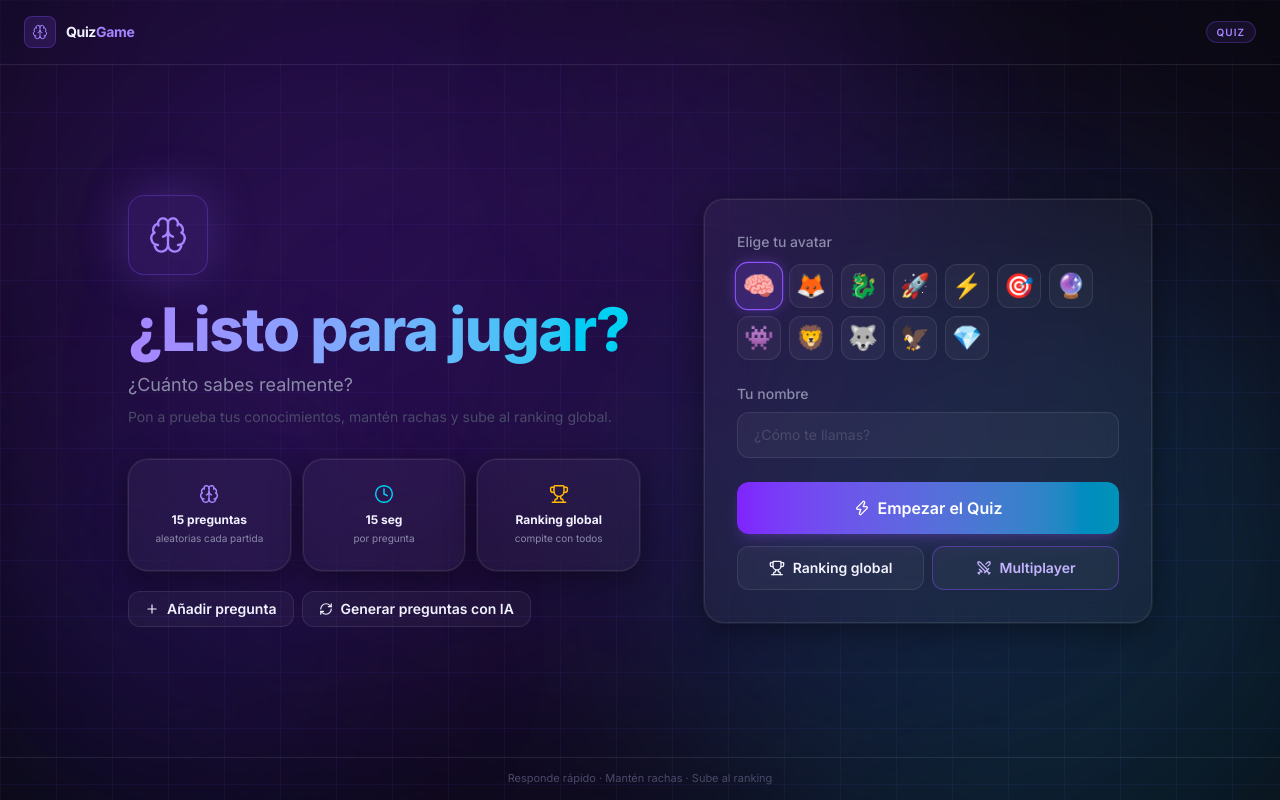
Test: StartScreen — form validation › clears the error when the user starts typing
The image size is (1280, 800).
Click the button "Empezar el Quiz" at (928, 508), box 737,482 -> 1119,534
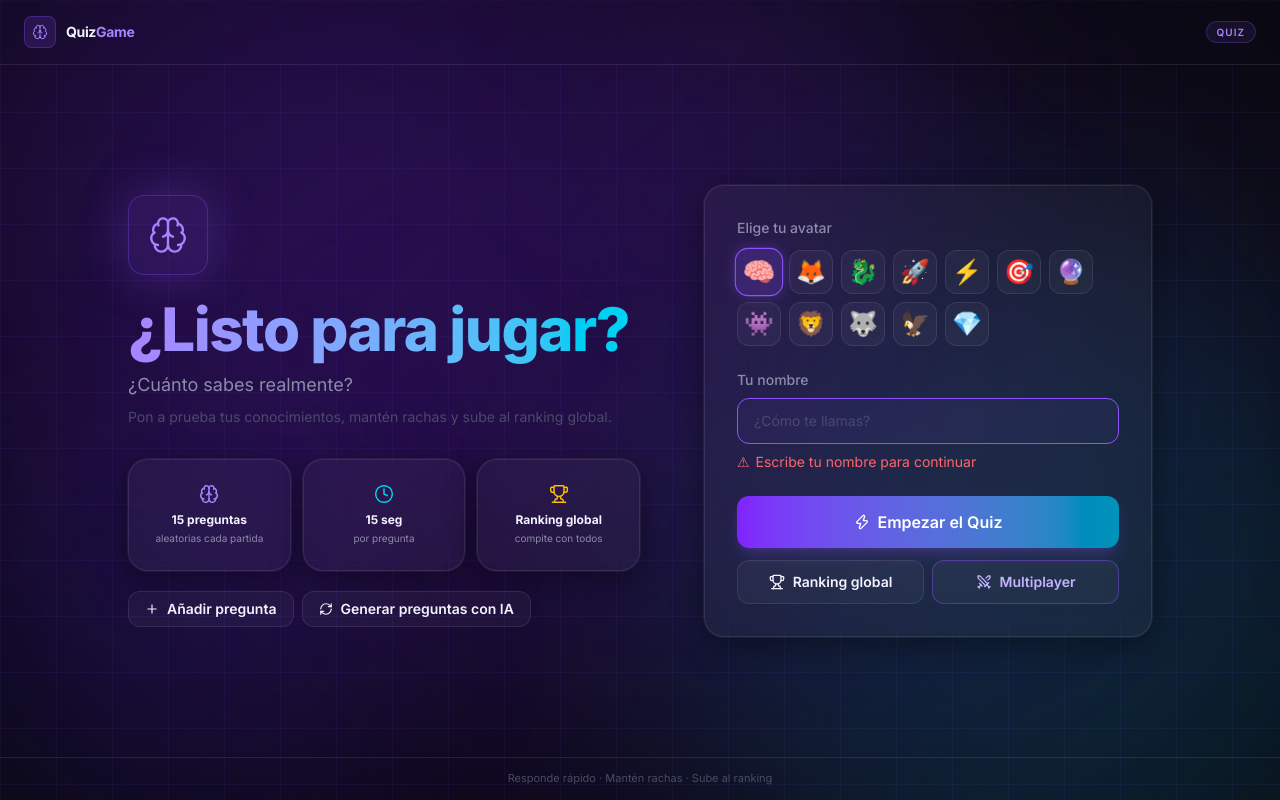
Expected: the message "⚠ Escribe tu nombre para continuar" is shown, 737,453 -> 976,470
Type "A" into the field with placeholder "¿Cómo te llamas?" at (928, 421), box 737,398 -> 1119,444
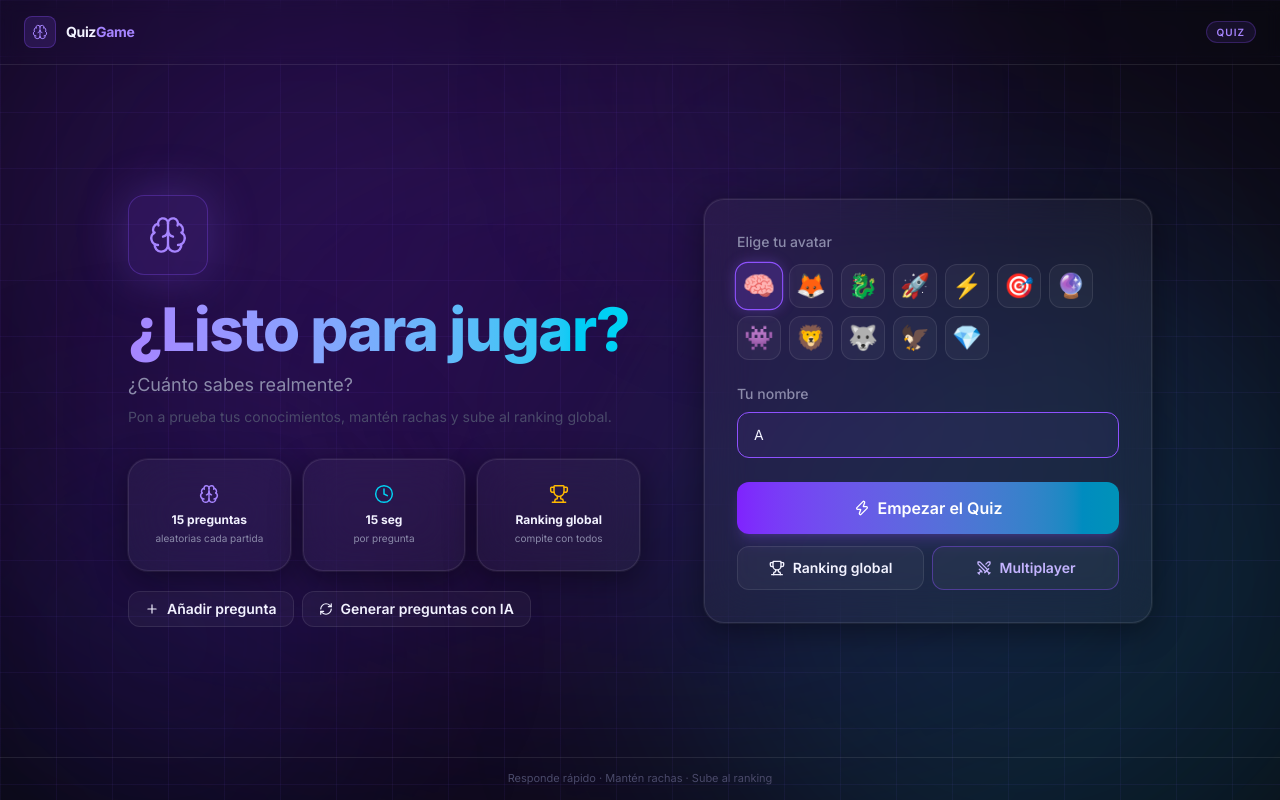
Expected: the message "⚠ Escribe tu nombre para continuar" is gone
